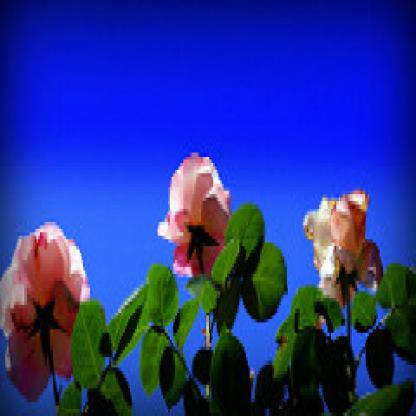Rose-Mawar: (3, 219, 86, 393), (152, 143, 244, 289), (299, 171, 384, 309)
